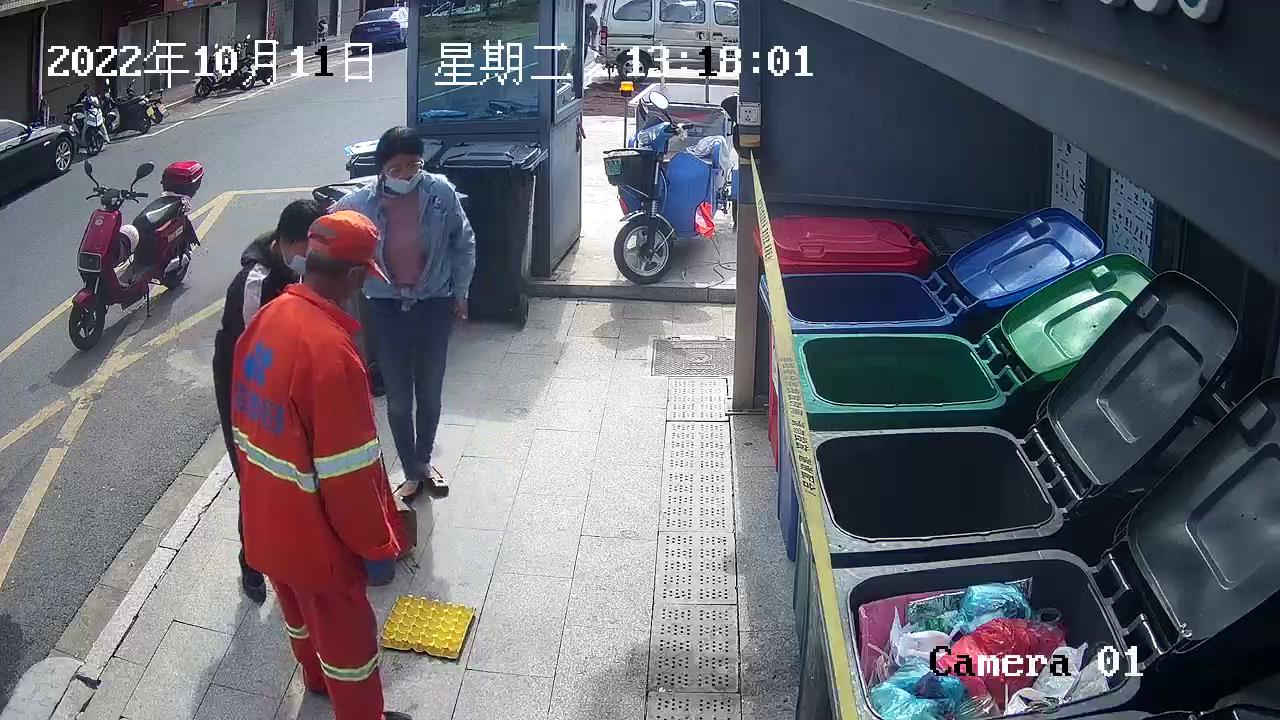person: (205, 195, 339, 606)
worker: (223, 207, 420, 720), (330, 123, 480, 510)
zhizhipin: (372, 589, 479, 662)
